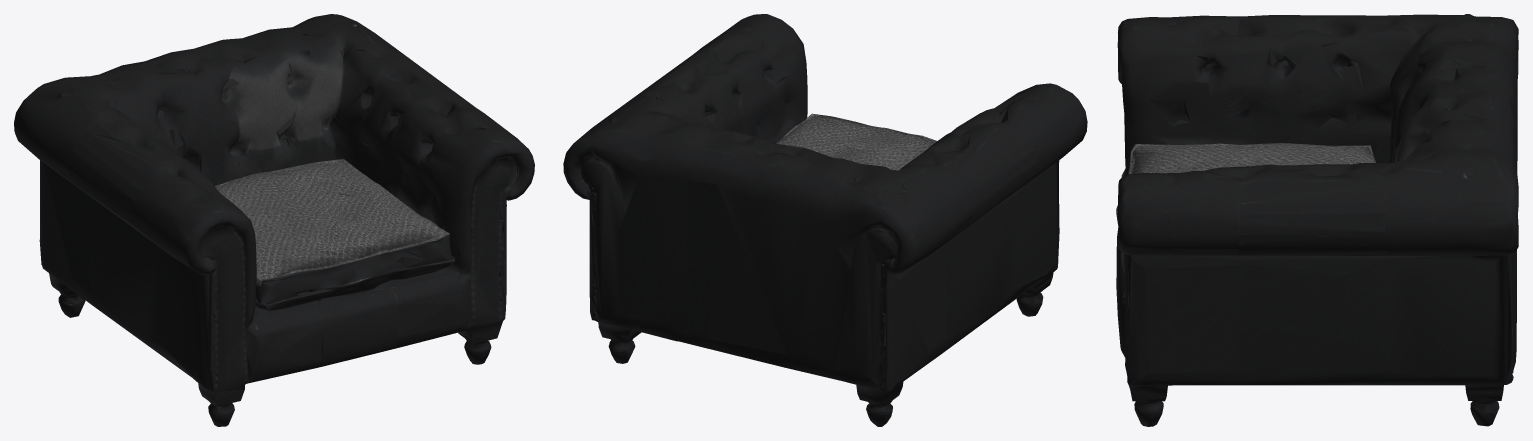
File: Canape.fbx
The picture shows the model from 3 angles, left to right: view 1: azimuth 30°, elevation 25°; view 2: azimuth 150°, elevation 25°; view 3: azimuth 270°, elevation 25°; orthographic projection. The views are drawn at different scales.
Visible parts, largest first — view 1: Mesh_0; view 2: Mesh_0; view 3: Mesh_0.
Boxes of the visible parts, x1=… form: Mesh_0: x1=14, y1=14, x2=534, y2=426; Mesh_0: x1=563, y1=14, x2=1087, y2=426; Mesh_0: x1=1116, y1=14, x2=1518, y2=426.
Bounding box in the file's own units: 190 × 122 × 167.
1 material, 1 textured.
